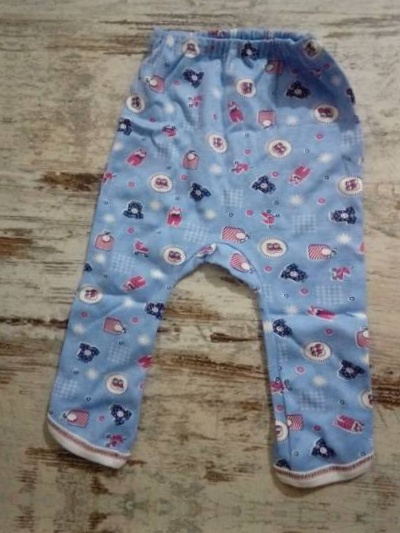Pants: (26, 0, 400, 498), (0, 522, 383, 533)
